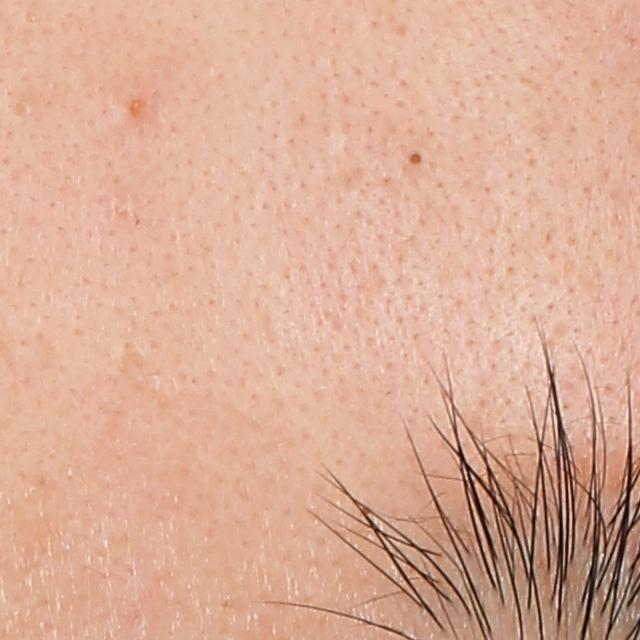comedo: (388, 140, 440, 176), (11, 89, 42, 118)
